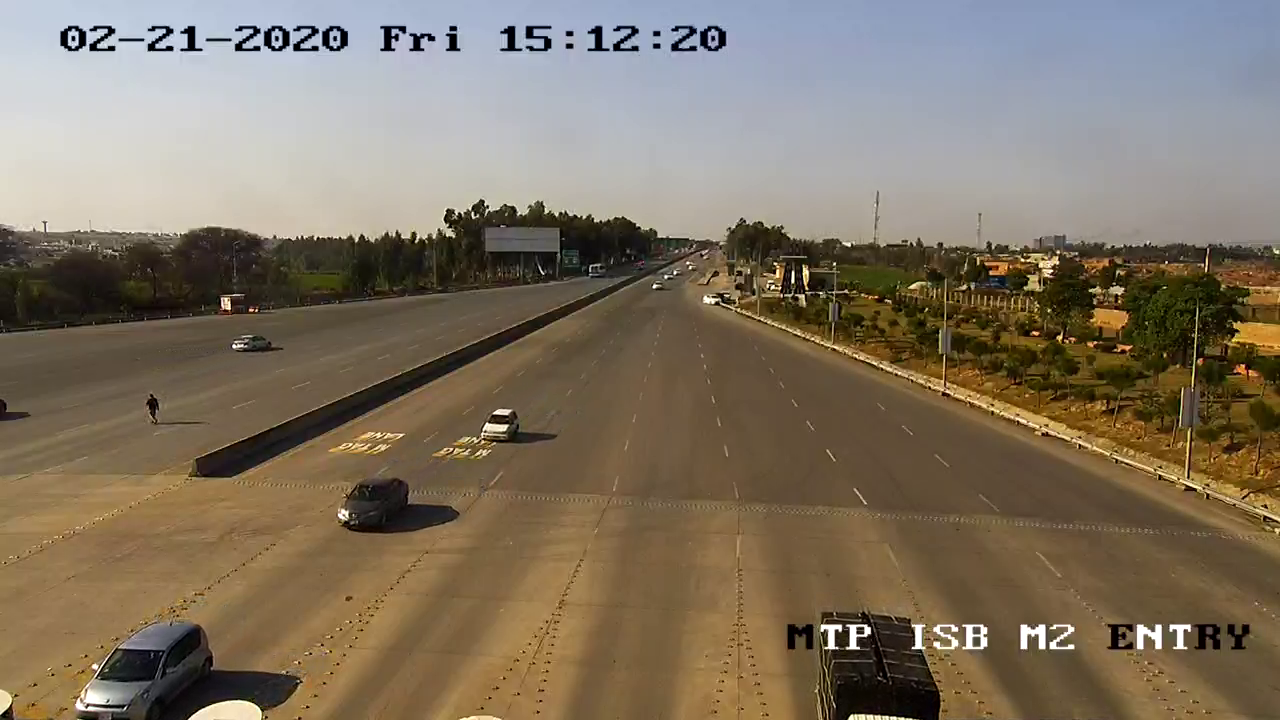f1: (71, 610, 218, 720), (332, 470, 413, 538), (480, 399, 523, 448)
